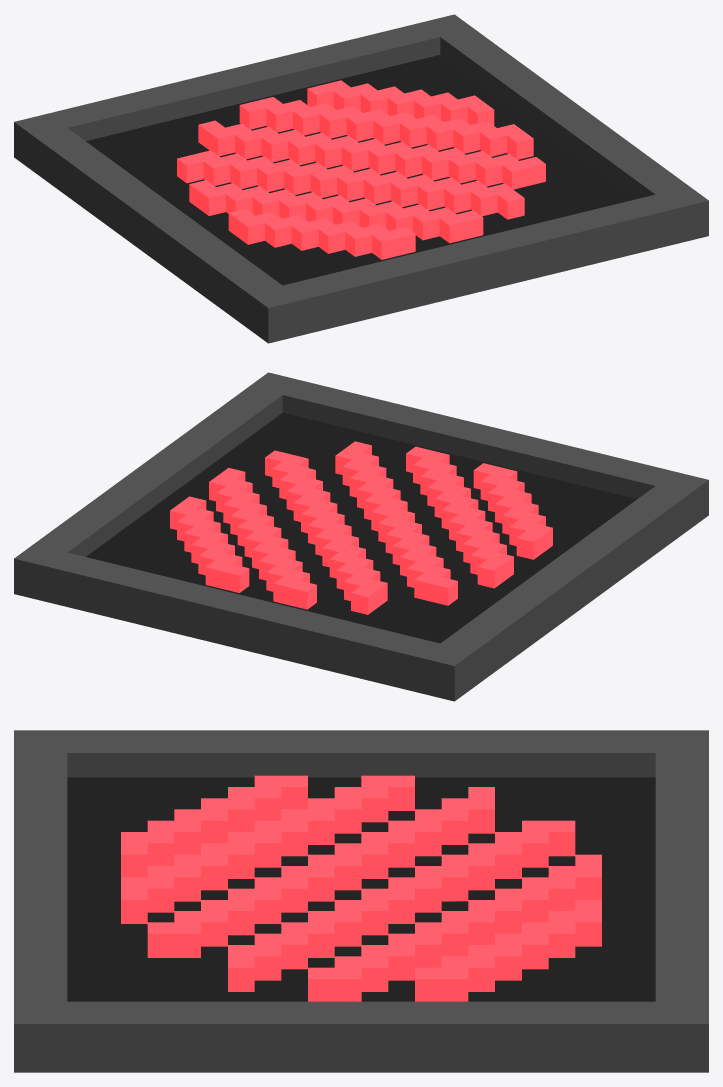
Rendered from trap_GRILL_RED.glb.
The picture shows the model from 3 angles, top to bottom: view 1: azimuth 30°, elevation 25°; view 2: azimuth 150°, elevation 25°; view 3: azimuth 270°, elevation 25°; orthographic projection. The views are drawn at different scales.
Visible parts, largest first — view 1: item_TRAP_GRILL_RED; view 2: item_TRAP_GRILL_RED; view 3: item_TRAP_GRILL_RED.
Boxes of the visible parts, box(x1,y1,x2,y2) form: item_TRAP_GRILL_RED: box(14, 14, 708, 343); item_TRAP_GRILL_RED: box(14, 372, 708, 701); item_TRAP_GRILL_RED: box(14, 730, 708, 1072).
Size of the model in its own units: 0.5909 by 0.0455 by 0.5909.
1 material, 1 textured.
